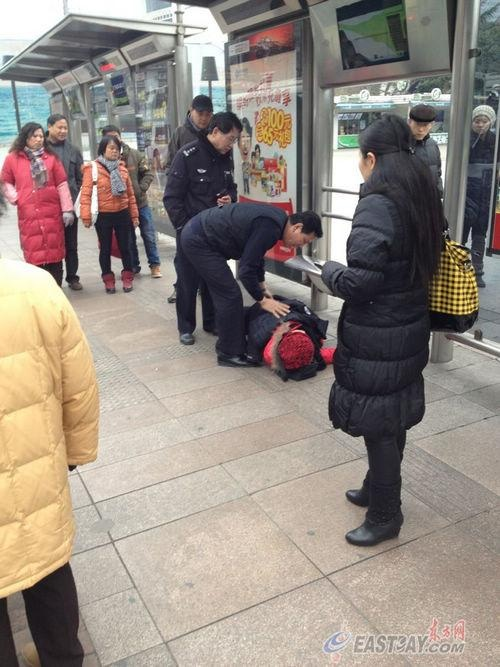falling: (230, 285, 334, 387)
